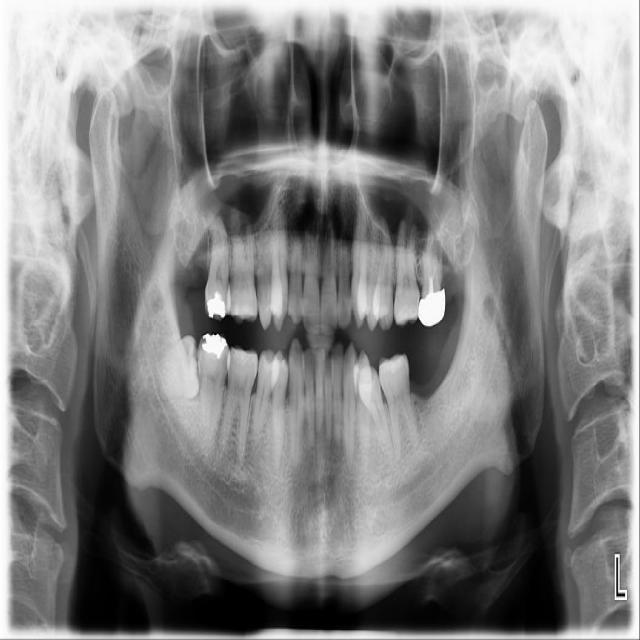Crown: (418, 289, 445, 335)
Filling: (200, 333, 229, 360), (205, 291, 228, 321)
Missing teeth: (407, 348, 443, 404)
Root Canal Treatment: (428, 252, 433, 294)
impacted tooth: (154, 337, 200, 401)
